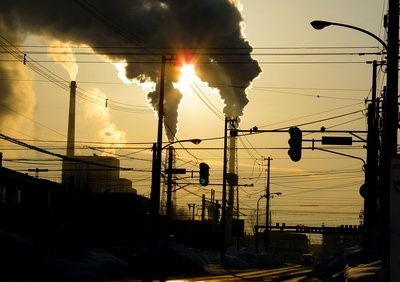工厂排烟: (0, 0, 183, 144), (143, 0, 263, 133), (82, 86, 124, 158), (45, 36, 79, 82)
